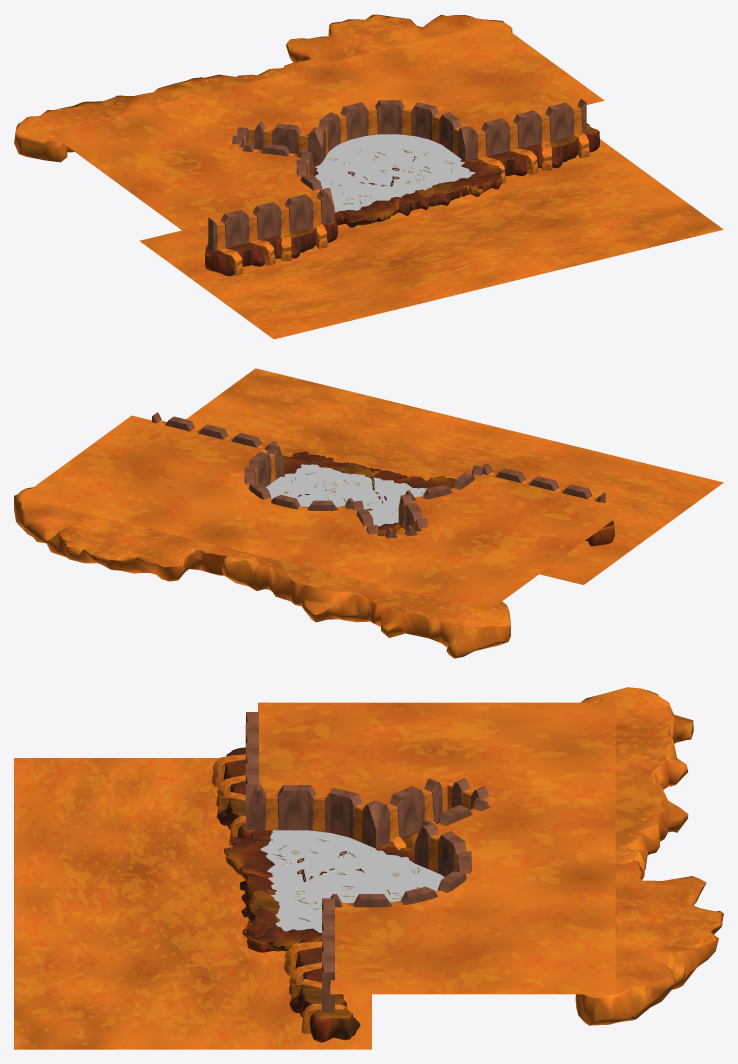
The model's file is LV4Floor.fbx.
The picture shows the model from 3 angles, top to bottom: view 1: azimuth 30°, elevation 25°; view 2: azimuth 150°, elevation 25°; view 3: azimuth 270°, elevation 25°; orthographic projection. The views are drawn at different scales.
Parts seen in each view (by area): view 1: polySurface159; view 2: polySurface159; view 3: polySurface159.
Boxes of the visible parts, x1,y1,x2,y2 form: polySurface159: (14, 14, 723, 339); polySurface159: (14, 368, 723, 658); polySurface159: (14, 687, 723, 1049).
Size of the model in its own units: 727 by 84.82 by 697.
